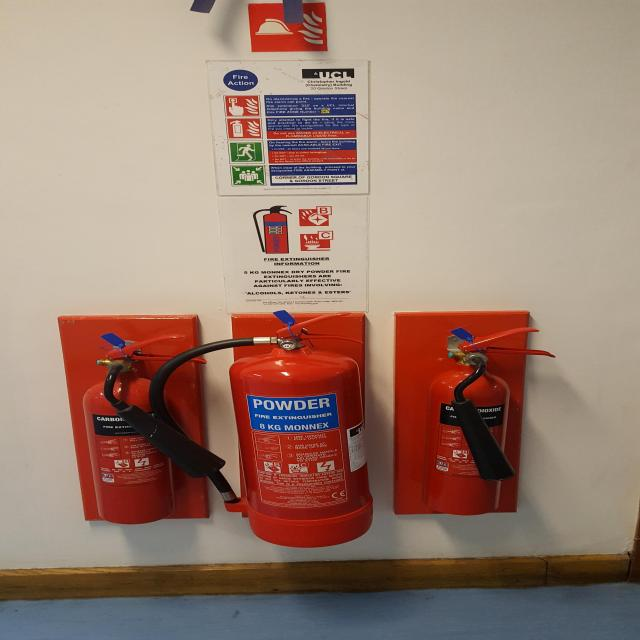fire_extinguisher: (144, 306, 379, 550), (78, 331, 228, 528), (421, 322, 558, 516)
